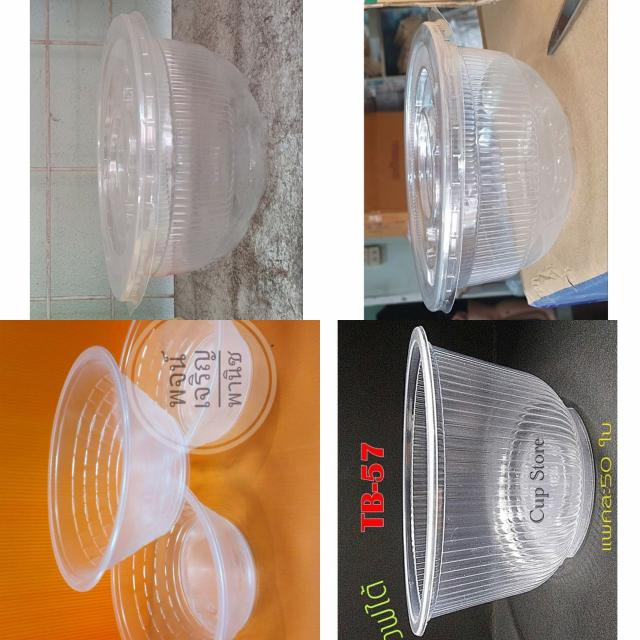Single-Use-Plastic: (404, 326, 595, 636), (405, 19, 575, 312), (98, 12, 266, 308), (49, 346, 189, 591), (112, 491, 256, 640)
